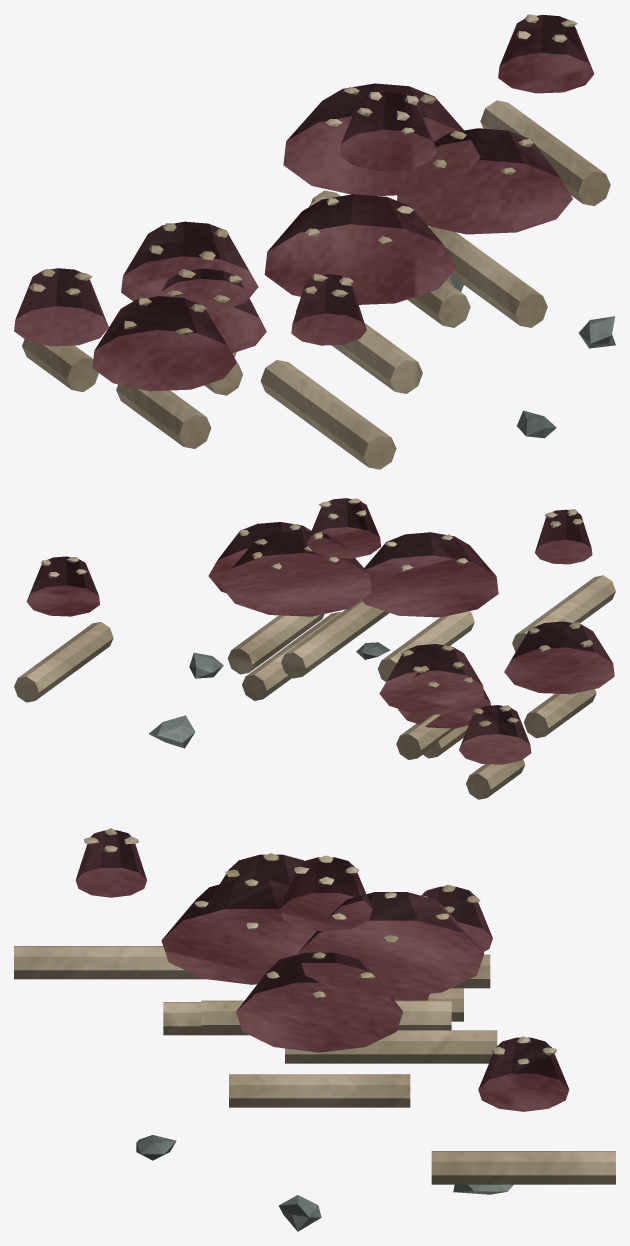
The model's file is 0205_mushroom_patch_05.glb.
The picture shows the model from 3 angles, top to bottom: view 1: azimuth 30°, elevation 25°; view 2: azimuth 150°, elevation 25°; view 3: azimuth 270°, elevation 25°; orthographic projection. The views are drawn at different scales.
Visible parts, largest first — view 1: cloth, bone, stone; view 2: cloth, bone, stone; view 3: cloth, bone, stone.
Part boxes in pixels (left/top/right/bottom): cloth: left=14, top=14, right=594, bottom=391; bone: left=22, top=14, right=610, bottom=469; stone: left=449, top=275, right=615, bottom=438; cloth: left=26, top=498, right=614, bottom=764; bone: left=14, top=498, right=615, bottom=799; stone: left=149, top=642, right=390, bottom=748; cloth: left=75, top=830, right=569, bottom=1111; bone: left=14, top=828, right=615, bottom=1184; stone: left=136, top=1135, right=513, bottom=1231.
Size of the model in its own units: 2.27 by 0.991 by 2.03.
Materials: 3 (3 with a texture image).
